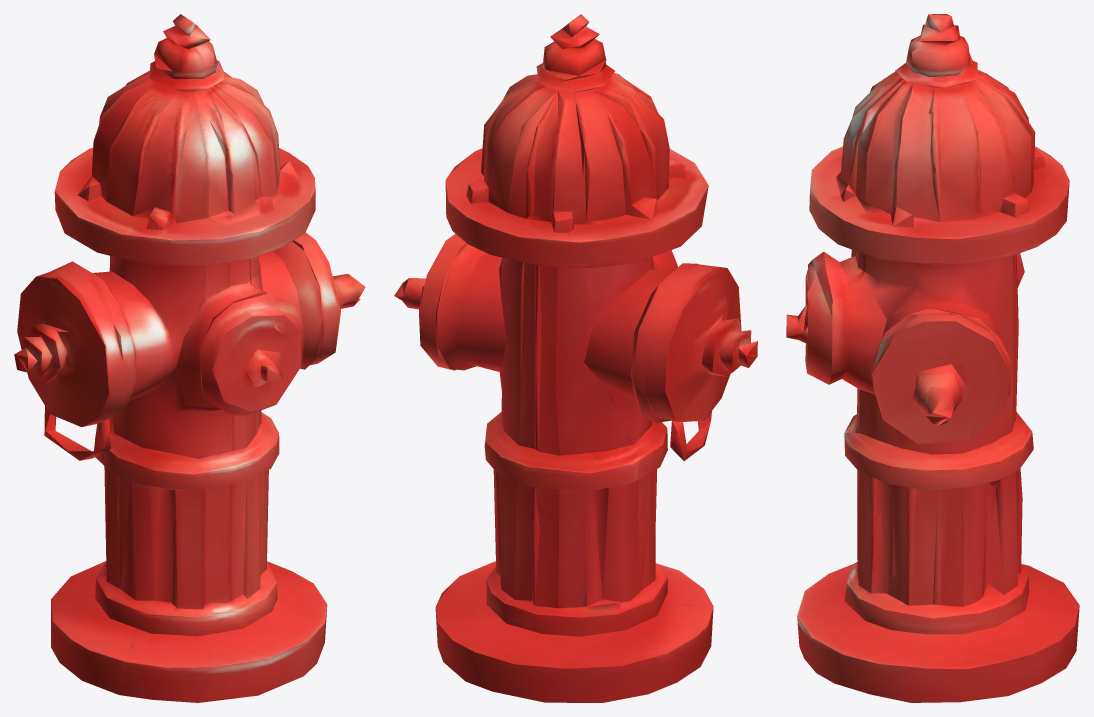
The model's file is fireHydrant.glb.
3 views of the same model, side by side, from view 1: azimuth 30°, elevation 25°; view 2: azimuth 150°, elevation 25°; view 3: azimuth 270°, elevation 25° (orthographic).
Parts seen in each view (by area): view 1: model; view 2: model; view 3: model.
Boxes of the visible parts, left/top/right/bottom form: model: left=14, top=14, right=365, bottom=702; model: left=394, top=14, right=757, bottom=702; model: left=786, top=14, right=1079, bottom=702.
Bounding box in the file's own units: 1.09 × 1.88 × 0.7933.
Materials: 1 (1 with a texture image).
